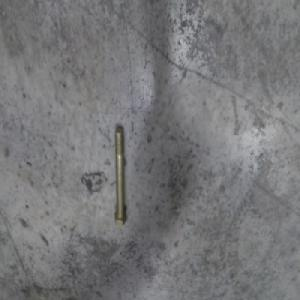Bolt: (111, 124, 128, 228)
